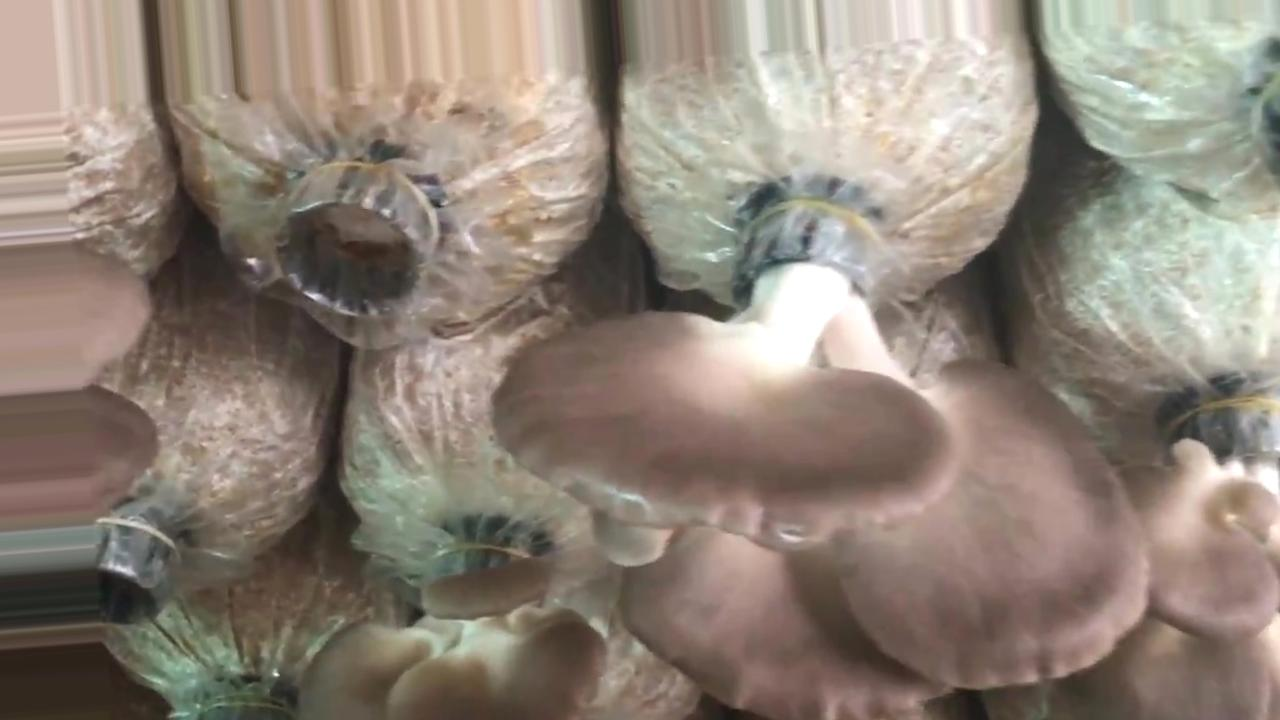nam: (491, 210, 1148, 716), (988, 400, 1279, 720), (308, 546, 608, 720), (1, 246, 157, 523)
